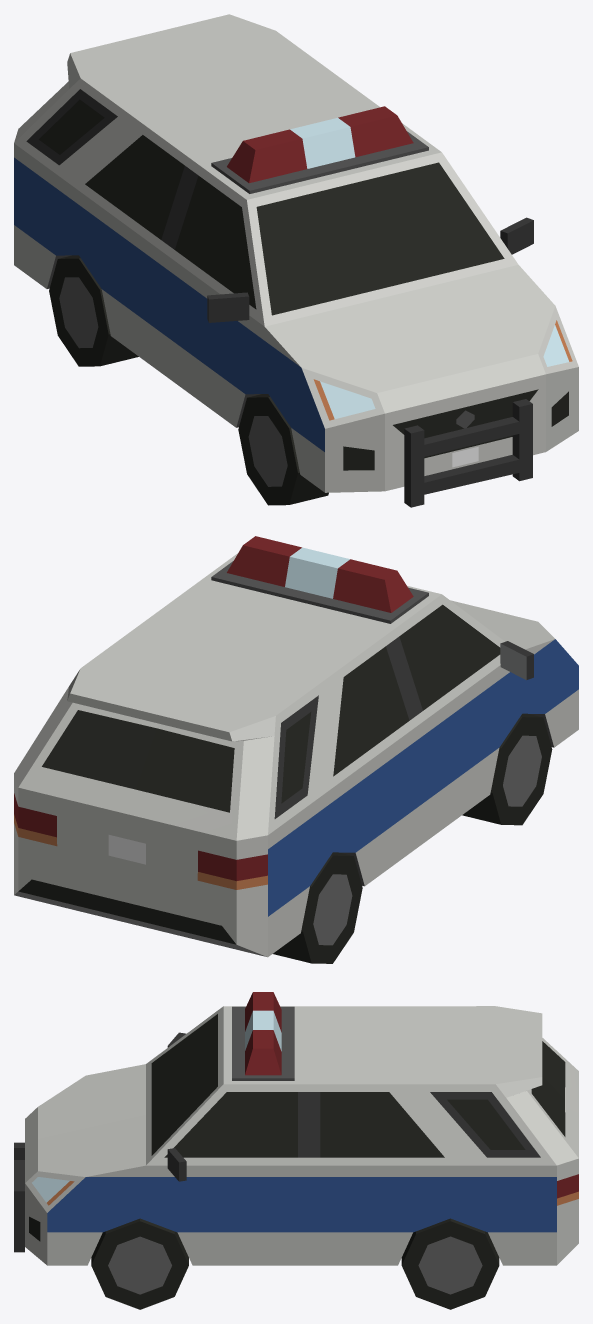
File: Veh_Police_SUV.glb
3 views of the same model, one above another, from view 1: azimuth 30°, elevation 25°; view 2: azimuth 150°, elevation 25°; view 3: azimuth 270°, elevation 25° (orthographic). The views are drawn at different scales.
Parts seen in each view (by area): view 1: Police_SUV_01, Wheel_FR, Wheel_RR; view 2: Police_SUV_01, Wheel_FR, Wheel_RR; view 3: Police_SUV_01, Wheel_FL, Wheel_RL.
Boxes of the visible parts, box(x1,y1,x2,y2) form: Police_SUV_01: box(14, 14, 578, 507); Wheel_FR: box(238, 394, 328, 505); Wheel_RR: box(49, 255, 138, 366); Police_SUV_01: box(14, 536, 578, 957); Wheel_FR: box(462, 713, 552, 825); Wheel_RR: box(273, 852, 362, 963); Police_SUV_01: box(14, 992, 578, 1265); Wheel_FL: box(91, 1218, 188, 1309); Wheel_RL: box(401, 1218, 499, 1309).
Size of the model in its own units: 1.33 by 1.14 by 2.45.
1 material, 1 textured.
